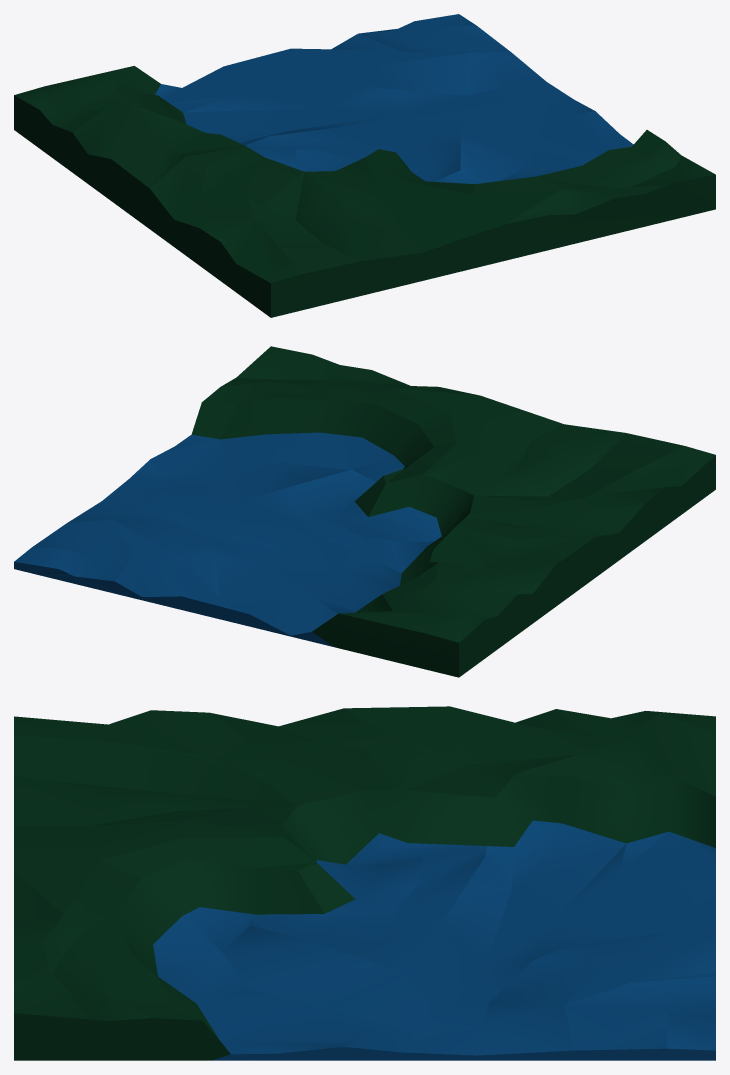
File: Water_Round_LB.fbx
3 views of the same model, one above another, from view 1: azimuth 30°, elevation 25°; view 2: azimuth 150°, elevation 25°; view 3: azimuth 270°, elevation 25° (orthographic). The views are drawn at different scales.
Visible parts, largest first — view 1: Water_Round_LB; view 2: Water_Round_LB; view 3: Water_Round_LB.
Boxes of the visible parts, left/top/right/bottom form: Water_Round_LB: left=14, top=14, right=715, bottom=317; Water_Round_LB: left=14, top=346, right=715, bottom=677; Water_Round_LB: left=14, top=706, right=715, bottom=1060.
Bounding box in the file's own units: 147 × 14.26 × 147.
